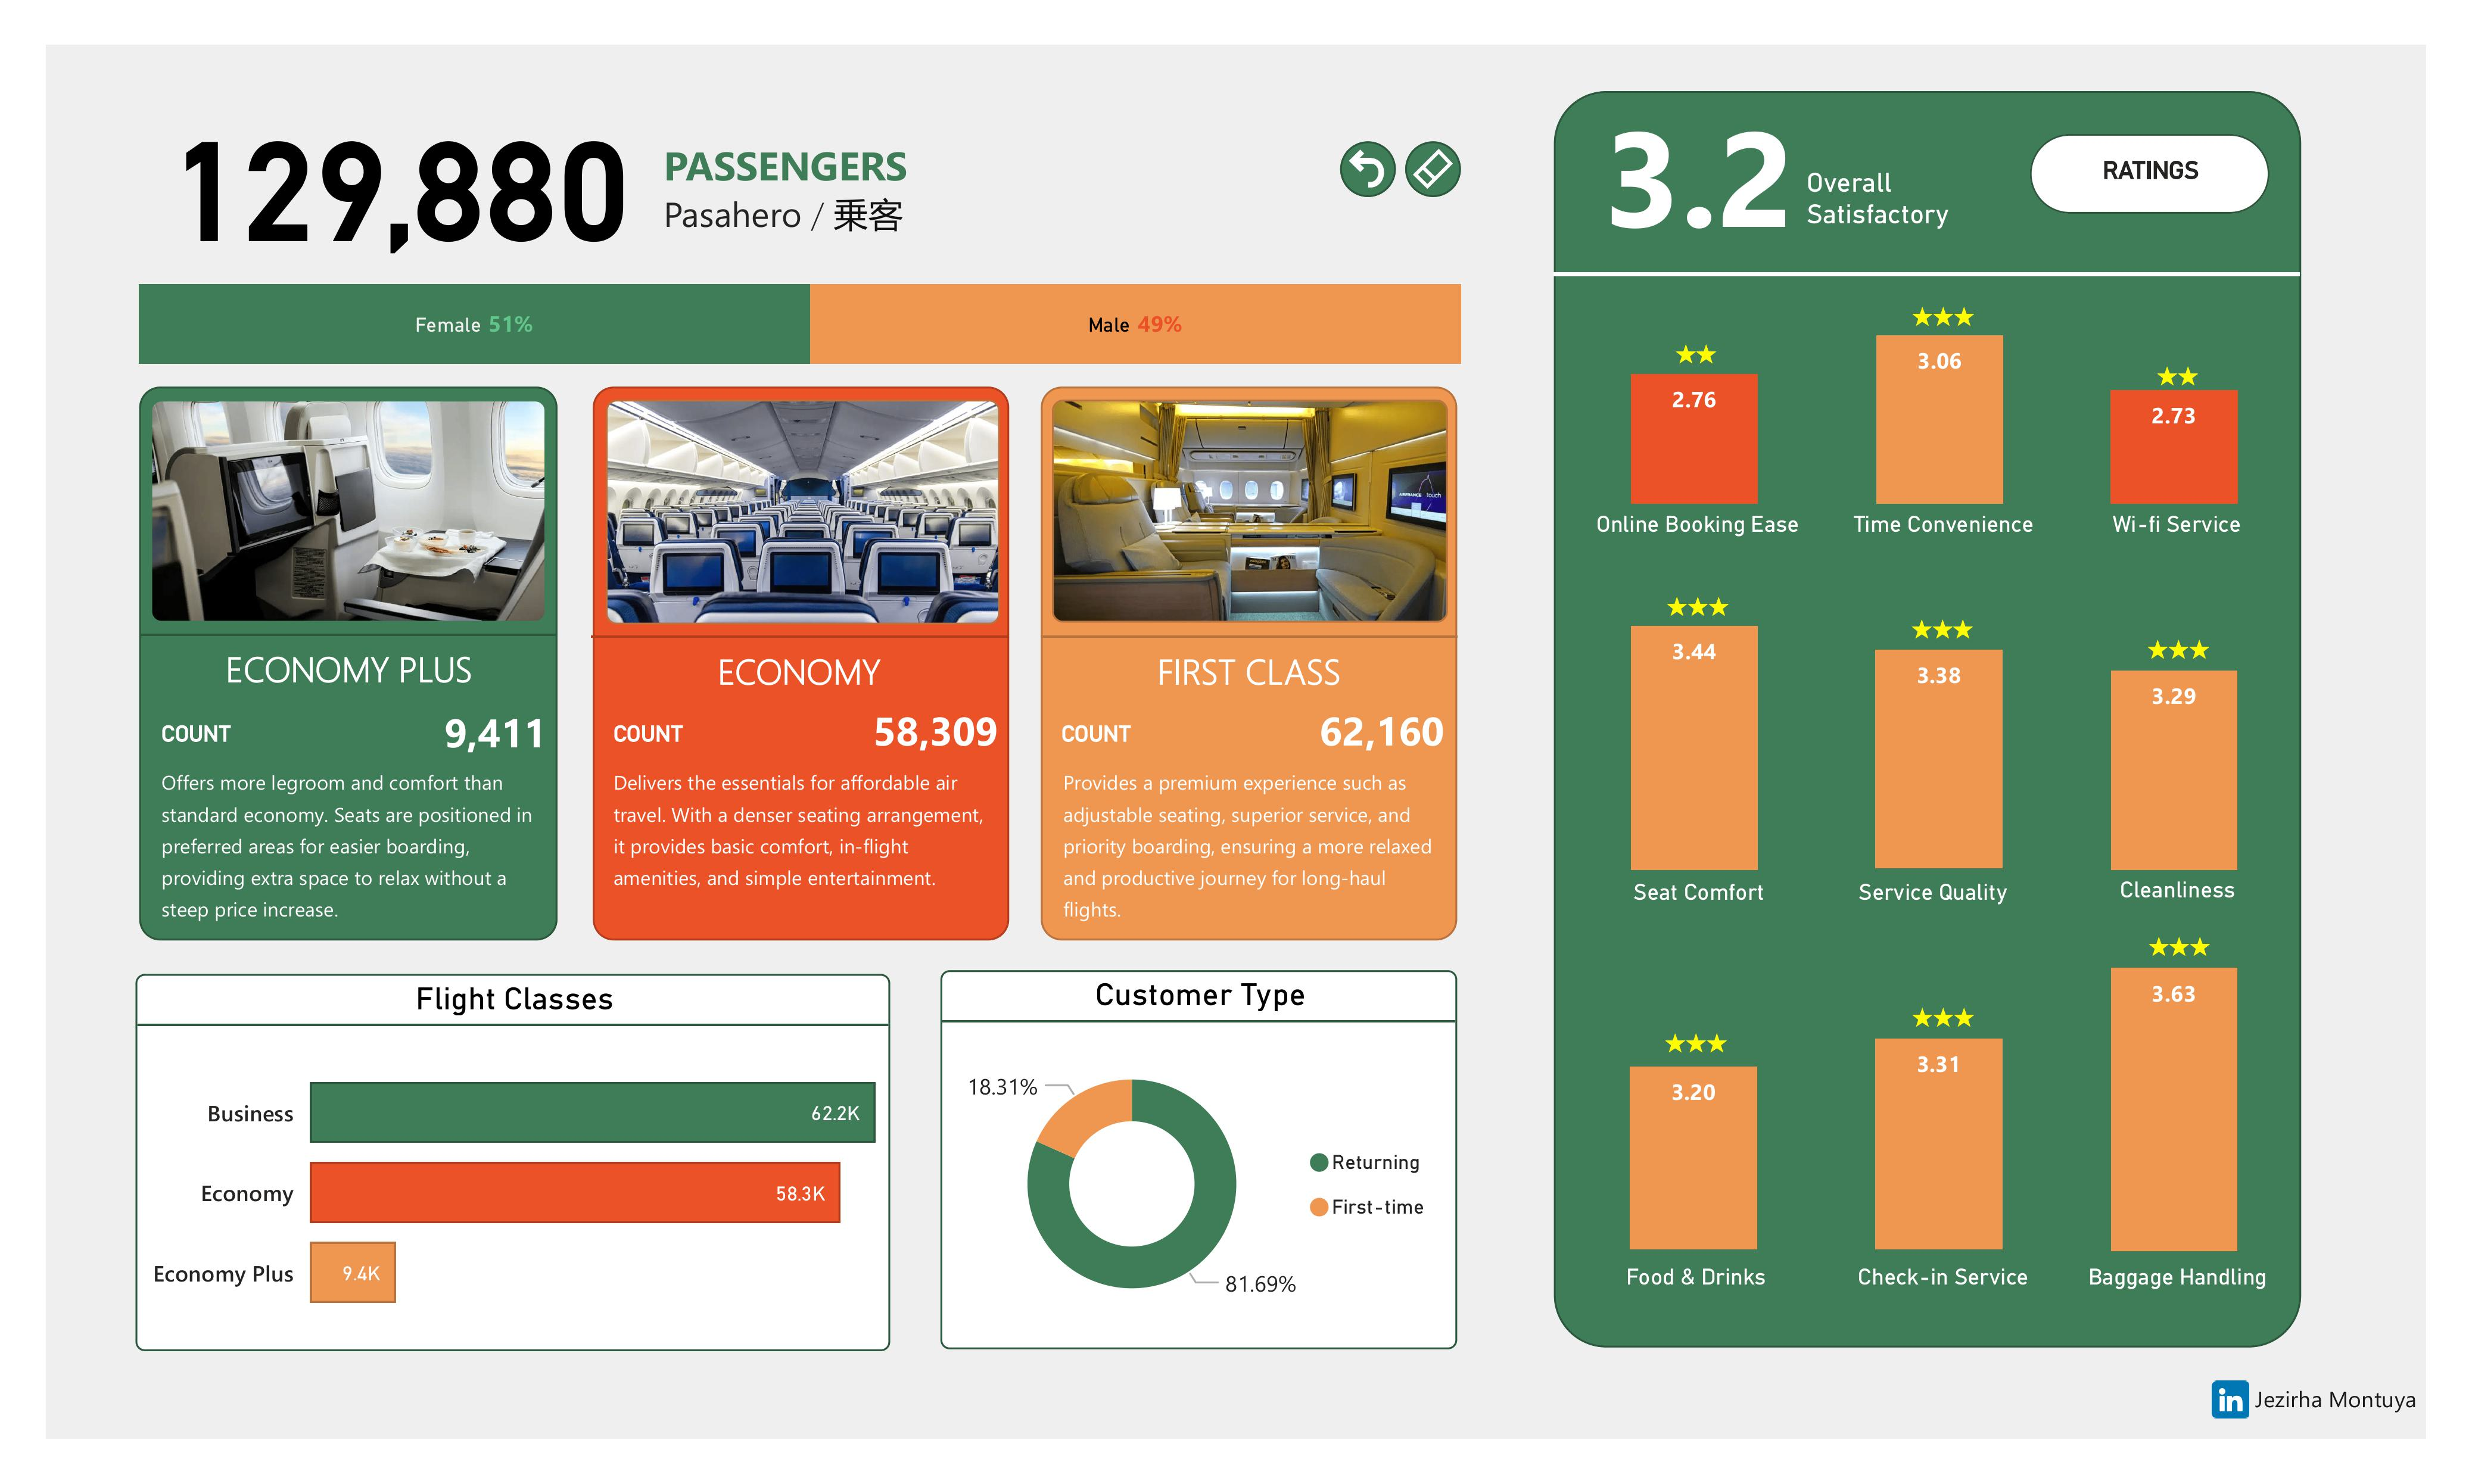

The dashboard page shown, as its layout file describes it:
{"tool":"powerbi","page":{"name":"Airline Passenger Satisfaction","canvas":[1280,750],"ordinal":0},"visuals":[{"type":"shape","box":[731.1,52.6,30,30],"z":0,"group":"g1"},{"type":"shape","box":[696.7,52.5,30,30],"z":1000,"group":"g1"},{"type":"card","fields":{"Values":["CountNonNull(Airline Quality Ratings-fixed.ID)"]},"box":[4.3,7.1,371.9,122.7],"z":2000,"group":"g1"},{"type":"textbox","box":[327.8,45.1,172,73],"z":3000,"group":"g1"},{"type":"shape","box":[50.5,184.4,224.7,297.4],"z":4000,"group":"g1"},{"type":"textbox","box":[51.1,311.9,224,51],"z":5000,"group":"g1"},{"type":"textbox","box":[56.9,382.1,212.5,100],"z":6000,"group":"g1"},{"type":"textbox","box":[57.1,355.9,72.7,31.8],"z":7000,"group":"g1"},{"type":"shape","box":[293.9,184.4,224.7,297.4],"z":8000,"group":"g1"},{"type":"textbox","box":[293.6,312.8,224,50.1],"z":9000,"group":"g1"},{"type":"textbox","box":[300.3,382.1,213.3,100],"z":10000,"group":"g1"},{"type":"textbox","box":[300.5,355.9,72.7,31.8],"z":11000,"group":"g1"},{"type":"shape","box":[535,184.4,224.7,297.4],"z":12000,"group":"g1"},{"type":"textbox","box":[535.1,312.8,224,51],"z":13000,"group":"g1"},{"type":"textbox","box":[541.9,382.1,212.5,100],"z":14000,"group":"g1"},{"type":"textbox","box":[541.6,355.9,72.7,31.8],"z":15000,"group":"g1"},{"type":"hundredPercentStackedBarChart","fields":{"Series":["Airline Quality Ratings-fixed.Gender"],"Y":["CountNonNull(Airline Quality Ratings-fixed.Gender)"]},"box":[45,112.2,721.3,72.2],"z":16000,"group":"g1"},{"type":"shape","box":[811,25,402.4,676],"z":17000,"group":"g1"},{"type":"textbox","box":[941.9,59.8,149.3,55.3],"z":18000,"group":"g1"},{"type":"textbox","box":[815.7,243.1,147,51.4],"z":19000,"group":"g1"},{"type":"columnChart","fields":{"Y":["Avg(Airline Quality Ratings-fixed.Ease of Online Booking)"]},"box":[756.8,143.2,264.5,109.8],"z":20000,"group":"g1"},{"type":"shape","box":[1067.5,48.4,129.2,42.4],"z":21000,"group":"g1"},{"type":"textbox","box":[953,243.1,135.7,51.4],"z":22000,"group":"g1"},{"type":"textbox","box":[1082.4,53.1,100.2,40.4],"z":23000,"group":"g1"},{"type":"columnChart","fields":{"Y":["Avg(Airline Quality Ratings-fixed.Departure and Arrival Time Convenience)"]},"box":[888.9,117.8,264.1,135.4],"z":24000,"group":"g1"},{"type":"textbox","box":[1099.2,243.1,94.5,51.4],"z":25000,"group":"g1"},{"type":"columnChart","fields":{"Y":["Avg(Airline Quality Ratings-fixed.In-flight Wifi Service)"]},"box":[1014.7,152.3,265.4,100.7],"z":26000,"group":"g1"},{"type":"textbox","box":[823.8,440.9,130,51.4],"z":27000,"group":"g1"},{"type":"columnChart","fields":{"Y":["Avg(Airline Quality Ratings-fixed.Seat Comfort)"]},"box":[757.7,278.5,263.7,171.8],"z":28000,"group":"g1"},{"type":"textbox","box":[956.1,441.2,118.5,51.5],"z":29000,"group":"g1"},{"type":"columnChart","fields":{"Y":["Avg(Airline Quality Ratings-fixed.On-board Service)"]},"box":[888.1,288.2,265,161.3],"z":30000,"group":"g1"},{"type":"textbox","box":[1095.9,440.1,101.7,52.2],"z":31000,"group":"g1"},{"type":"columnChart","fields":{"Y":["Avg(Airline Quality Ratings-fixed.Cleanliness)"]},"box":[1015,298.9,264.5,151.5],"z":32000,"group":"g1"},{"type":"textbox","box":[829.9,648.2,115.2,50.3],"z":33000,"group":"g1"},{"type":"columnChart","fields":{"Y":["Avg(Airline Quality Ratings-fixed.Food and Drink)"]},"box":[756.5,512.5,264.4,141.9],"z":34000,"group":"g1"},{"type":"columnChart","fields":{"Y":["Avg(Airline Quality Ratings-fixed.Check-in Service)"]},"box":[888.1,497.2,265.5,156.7],"z":35000,"group":"g1"},{"type":"textbox","box":[962.7,648.1,117.1,51.4],"z":36000,"group":"g1"},{"type":"columnChart","fields":{"Y":["Avg(Airline Quality Ratings-fixed.Baggage Handling)"]},"box":[1014.8,460.5,265,194.6],"z":37000,"group":"g1"},{"type":"textbox","box":[1079,648.1,134.9,52.2],"z":38000,"group":"g1"},{"type":"textbox","box":[858.3,152.2,59.2,38.8],"z":39000,"group":"g1"},{"type":"textbox","box":[986.8,132.4,68,38.9],"z":40000,"group":"g1"},{"type":"textbox","box":[1117,163.7,59.4,39],"z":41000,"group":"g1"},{"type":"textbox","box":[848.8,288.2,80.8,39.5],"z":42000,"group":"g1"},{"type":"textbox","box":[986.7,299.6,67.6,38.7],"z":43000,"group":"g1"},{"type":"textbox","box":[1109.7,311.1,75.6,38.7],"z":44000,"group":"g1"},{"type":"textbox","box":[850.4,523.6,74.7,30],"z":45000,"group":"g1"},{"type":"textbox","box":[985.8,508.7,69.4,38.7],"z":46000,"group":"g1"},{"type":"textbox","box":[1114.1,471,66.8,40.4],"z":47000,"group":"g1"},{"type":"textbox","box":[833,15,147.6,106.3],"z":48000,"group":"g1"},{"type":"textbox","box":[181.8,350.1,93,44],"z":49000,"group":"g1"},{"type":"textbox","box":[422.8,349.1,95,44],"z":50000,"group":"g1"},{"type":"textbox","box":[660.8,349.1,97,44],"z":51000,"group":"g1"},{"type":"barChart","title":"Flight Classes","fields":{"Category":["airline_ratings.Class"],"Y":["CountNonNull(airline_ratings.ID)"]},"box":[48.8,500.1,406,203],"z":52000,"group":"g1"},{"type":"donutChart","title":"Customer Type","fields":{"Category":["airline_ratings.Customer Type"],"Y":["CountNonNull(airline_ratings.ID)"]},"box":[480.9,498,278.2,203.6],"z":53000,"group":"g1"},{"type":"actionButton","box":[696.7,52.5,30.7,28.9],"z":54000,"group":"g1"},{"type":"image","box":[56.8,191.1,213,120],"z":55000,"group":"g1"},{"type":"image","box":[300.9,190.9,212.5,121.2],"z":56000,"group":"g1"},{"type":"image","box":[541.5,190.9,213.1,120],"z":57000,"group":"g1"},{"type":"shape","box":[810.9,117.1,401.9,12.9],"z":58000,"group":"g1"},{"type":"actionButton","box":[731.1,52.6,35.3,30],"z":59000,"group":"g1"},{"type":"group","id":"g1","title":"Group 1","box":[4.3,7.1,1275.7,695.7],"z":59001},{"type":"image","box":[1155,714.3,38.6,30],"z":59002},{"type":"textbox","box":[1177.1,714.3,102.9,35.7],"z":59003}]}

Visuals, with their boxes on the page's 1280x750 design canvas (x1, y1, x2, y2). These are canvas units, not pixel positions in the 2472x1484 screenshot, which may show the page scaled, cropped or inside an application window:
shape: <bbox>731, 53, 761, 83</bbox>
shape: <bbox>697, 52, 727, 82</bbox>
card - CountNonNull(Airline Quality Ratings-fixed.ID): <bbox>4, 7, 376, 130</bbox>
textbox: <bbox>328, 45, 500, 118</bbox>
shape: <bbox>50, 184, 275, 482</bbox>
textbox: <bbox>51, 312, 275, 363</bbox>
textbox: <bbox>57, 382, 269, 482</bbox>
textbox: <bbox>57, 356, 130, 388</bbox>
shape: <bbox>294, 184, 519, 482</bbox>
textbox: <bbox>294, 313, 518, 363</bbox>
textbox: <bbox>300, 382, 514, 482</bbox>
textbox: <bbox>300, 356, 373, 388</bbox>
shape: <bbox>535, 184, 760, 482</bbox>
textbox: <bbox>535, 313, 759, 364</bbox>
textbox: <bbox>542, 382, 754, 482</bbox>
textbox: <bbox>542, 356, 614, 388</bbox>
hundredPercentStackedBarChart - Airline Quality Ratings-fixed.Gender x CountNonNull(Airline Quality Ratings-fixed.Gender): <bbox>45, 112, 766, 184</bbox>
shape: <bbox>811, 25, 1213, 701</bbox>
textbox: <bbox>942, 60, 1091, 115</bbox>
textbox: <bbox>816, 243, 963, 294</bbox>
columnChart - Avg(Airline Quality Ratings-fixed.Ease of Online Booking): <bbox>757, 143, 1021, 253</bbox>
shape: <bbox>1068, 48, 1197, 91</bbox>
textbox: <bbox>953, 243, 1089, 294</bbox>
textbox: <bbox>1082, 53, 1183, 94</bbox>
columnChart - Avg(Airline Quality Ratings-fixed.Departure and Arrival Time Convenience): <bbox>889, 118, 1153, 253</bbox>
textbox: <bbox>1099, 243, 1194, 294</bbox>
columnChart - Avg(Airline Quality Ratings-fixed.In-flight Wifi Service): <bbox>1015, 152, 1280, 253</bbox>
textbox: <bbox>824, 441, 954, 492</bbox>
columnChart - Avg(Airline Quality Ratings-fixed.Seat Comfort): <bbox>758, 278, 1021, 450</bbox>
textbox: <bbox>956, 441, 1075, 493</bbox>
columnChart - Avg(Airline Quality Ratings-fixed.On-board Service): <bbox>888, 288, 1153, 450</bbox>
textbox: <bbox>1096, 440, 1198, 492</bbox>
columnChart - Avg(Airline Quality Ratings-fixed.Cleanliness): <bbox>1015, 299, 1280, 450</bbox>
textbox: <bbox>830, 648, 945, 698</bbox>
columnChart - Avg(Airline Quality Ratings-fixed.Food and Drink): <bbox>756, 512, 1021, 654</bbox>
columnChart - Avg(Airline Quality Ratings-fixed.Check-in Service): <bbox>888, 497, 1154, 654</bbox>
textbox: <bbox>963, 648, 1080, 700</bbox>
columnChart - Avg(Airline Quality Ratings-fixed.Baggage Handling): <bbox>1015, 460, 1280, 655</bbox>
textbox: <bbox>1079, 648, 1214, 700</bbox>
textbox: <bbox>858, 152, 918, 191</bbox>
textbox: <bbox>987, 132, 1055, 171</bbox>
textbox: <bbox>1117, 164, 1176, 203</bbox>
textbox: <bbox>849, 288, 930, 328</bbox>
textbox: <bbox>987, 300, 1054, 338</bbox>
textbox: <bbox>1110, 311, 1185, 350</bbox>
textbox: <bbox>850, 524, 925, 554</bbox>
textbox: <bbox>986, 509, 1055, 547</bbox>
textbox: <bbox>1114, 471, 1181, 511</bbox>
textbox: <bbox>833, 15, 981, 121</bbox>
textbox: <bbox>182, 350, 275, 394</bbox>
textbox: <bbox>423, 349, 518, 393</bbox>
textbox: <bbox>661, 349, 758, 393</bbox>
"Flight Classes" barChart: <bbox>49, 500, 455, 703</bbox>
"Customer Type" donutChart: <bbox>481, 498, 759, 702</bbox>
actionButton: <bbox>697, 52, 727, 81</bbox>
image: <bbox>57, 191, 270, 311</bbox>
image: <bbox>301, 191, 513, 312</bbox>
image: <bbox>542, 191, 755, 311</bbox>
shape: <bbox>811, 117, 1213, 130</bbox>
actionButton: <bbox>731, 53, 766, 83</bbox>
"Group 1" group: <bbox>4, 7, 1280, 703</bbox>
image: <bbox>1155, 714, 1194, 744</bbox>
textbox: <bbox>1177, 714, 1280, 750</bbox>
